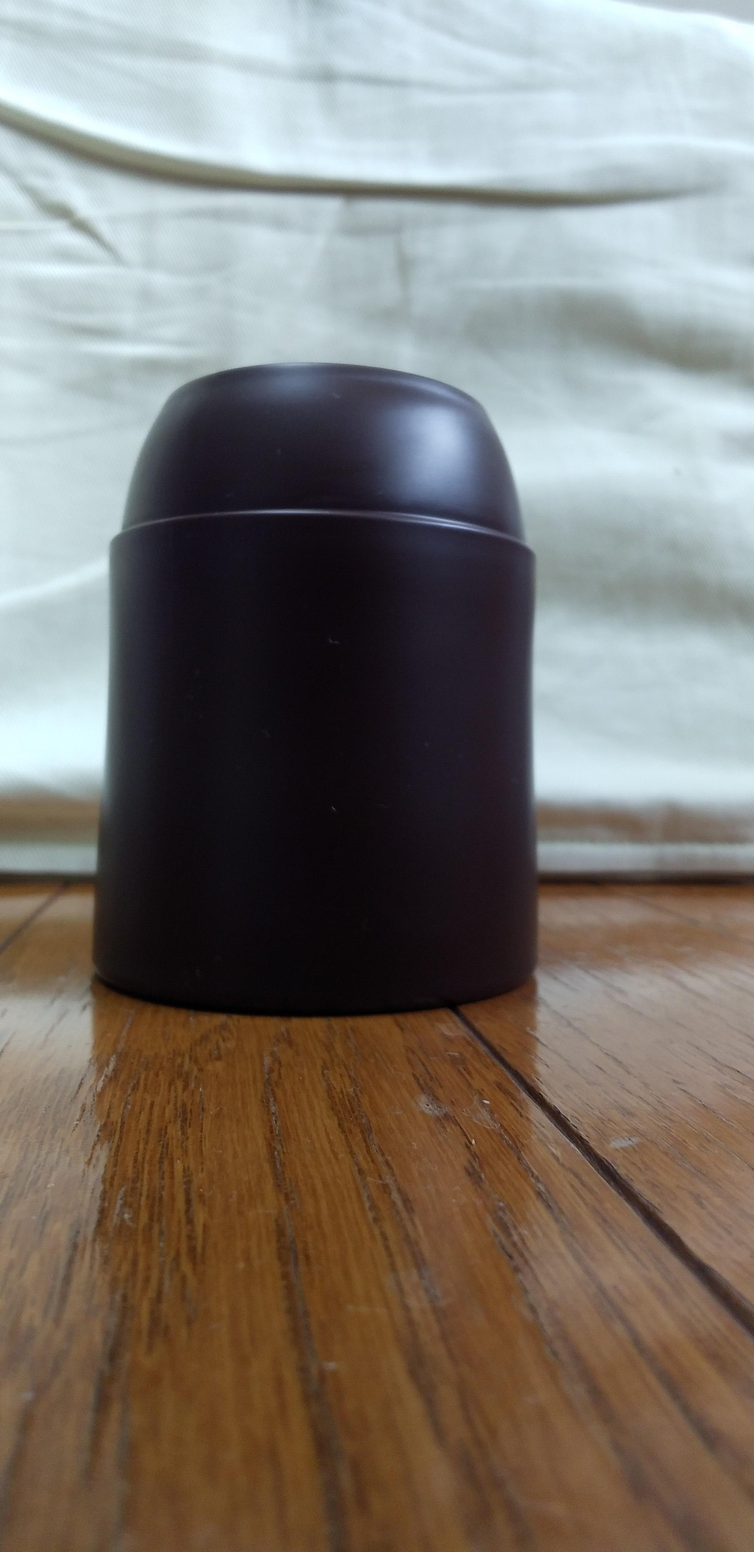mug-real100-3d100: (94, 365, 536, 1014)
